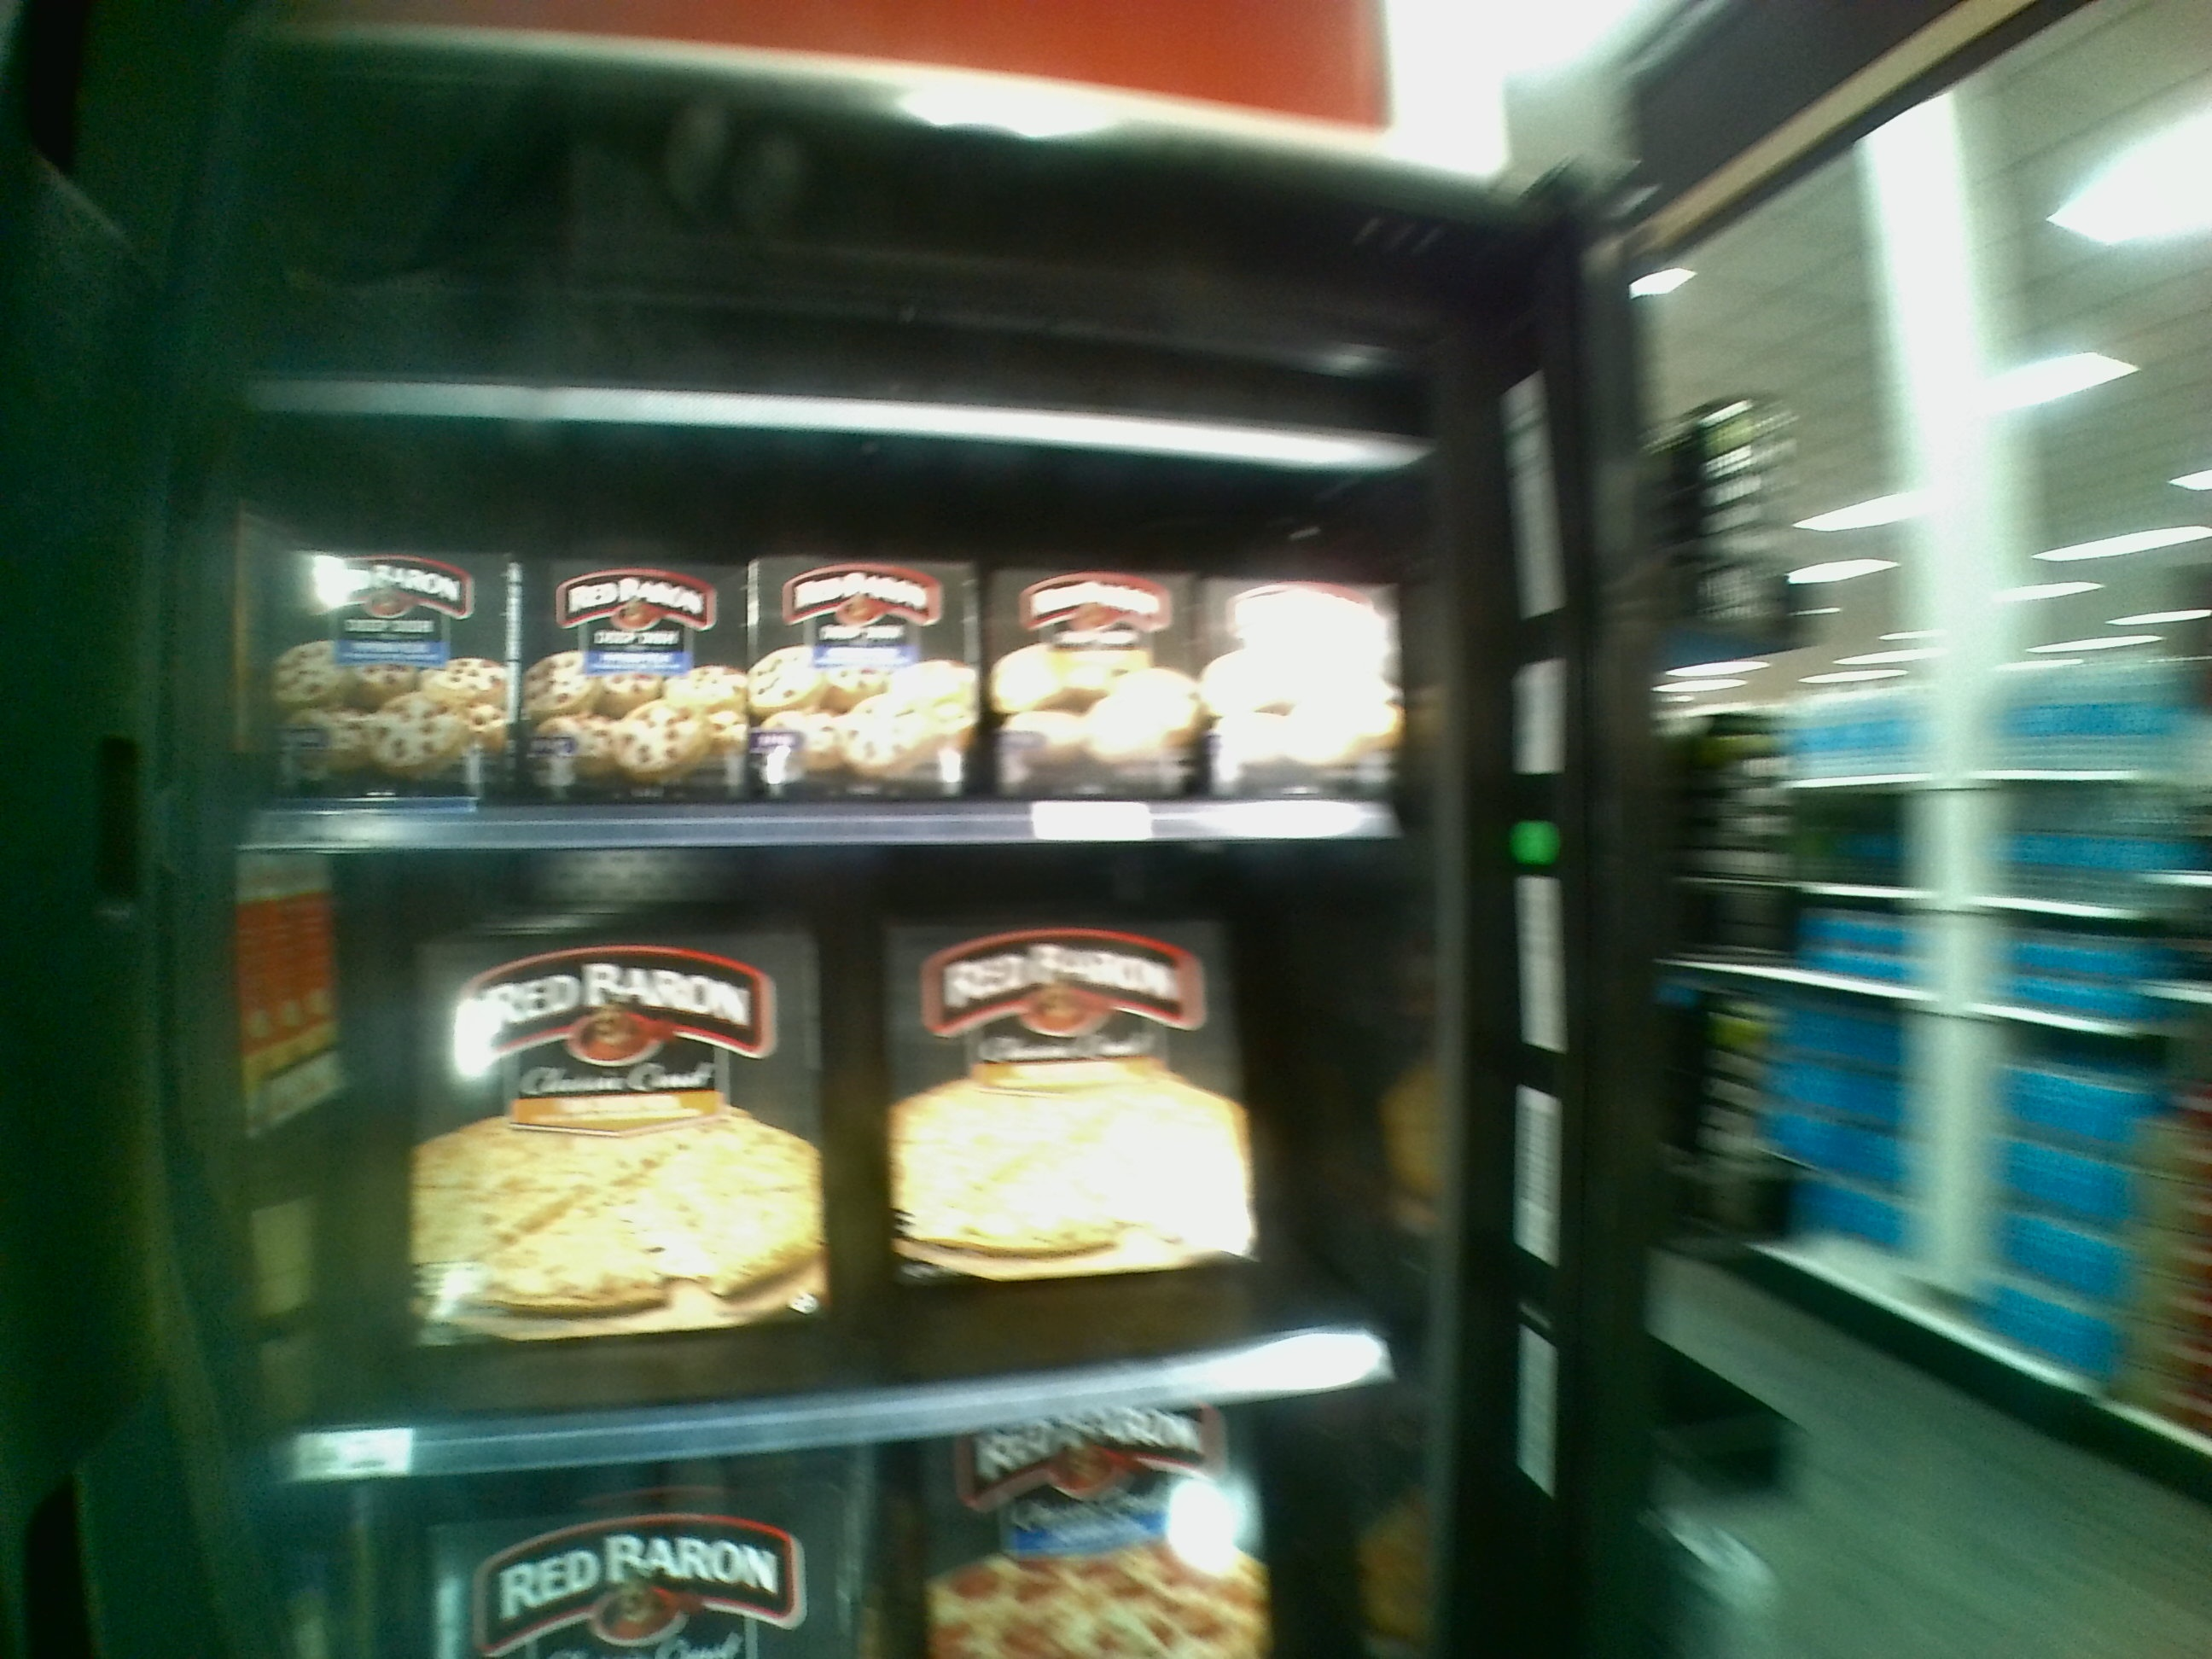shelf: (244, 850, 1430, 1466), (239, 420, 1399, 859)
